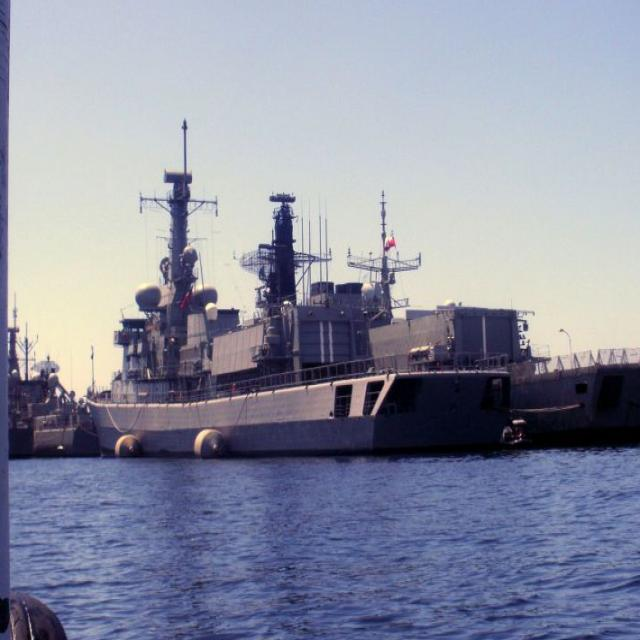Fragata: (71, 113, 524, 465)
